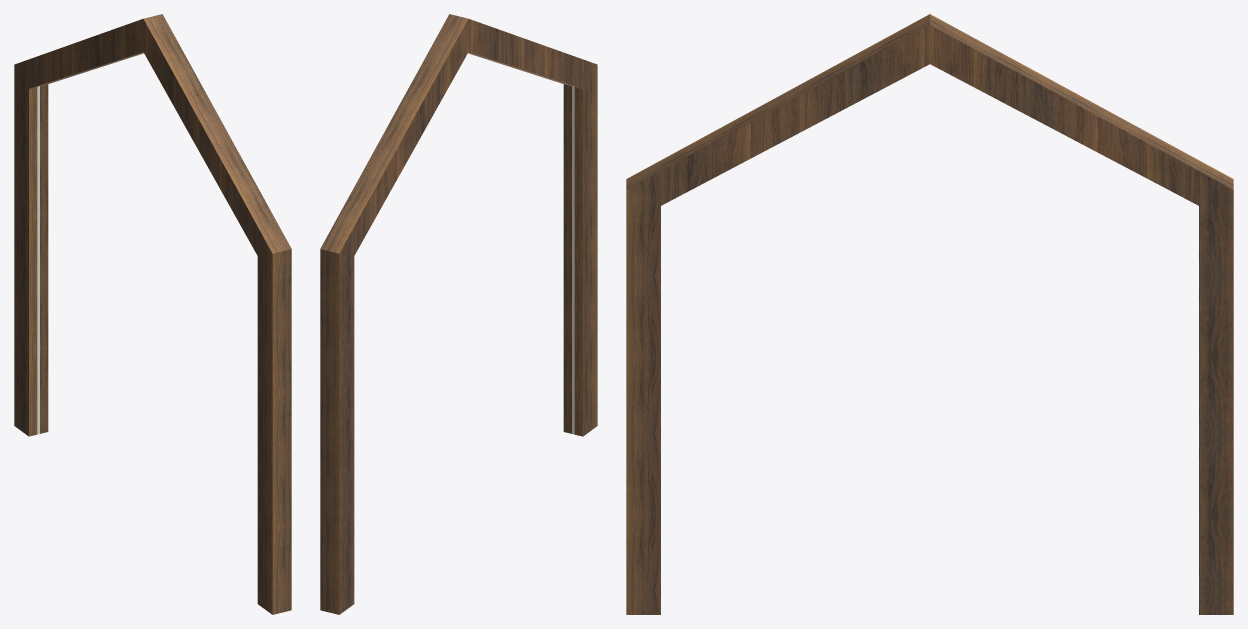
File: 装饰框.fbx
The picture shows the model from 3 angles, left to right: view 1: azimuth 30°, elevation 25°; view 2: azimuth 150°, elevation 25°; view 3: azimuth 270°, elevation 25°; orthographic projection. The views are drawn at different scales.
Parts seen in each view (by area): view 1: Group1; view 2: Group1; view 3: Group1.
Part boxes in pixels (x1,y1,x2,y2): Group1: [14, 14, 291, 614]; Group1: [320, 14, 597, 614]; Group1: [626, 14, 1233, 614].
Bounding box in the file's own units: 150 × 3750 × 3500.
